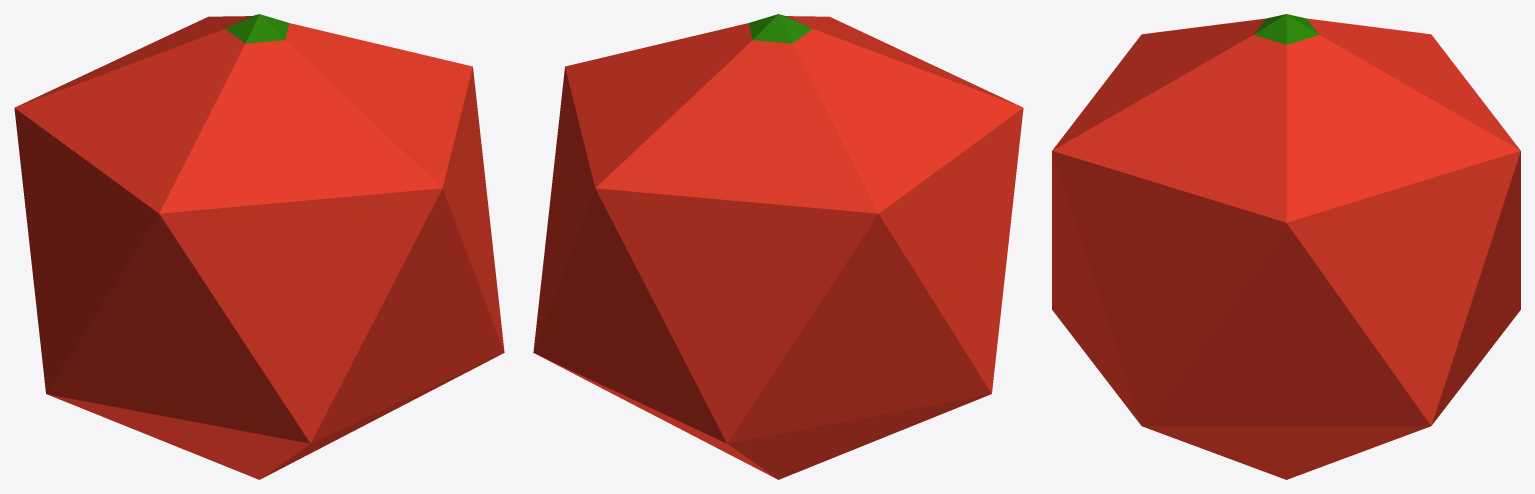
The model's file is tomate.fbx.
3 views of the same model, side by side, from view 1: azimuth 30°, elevation 25°; view 2: azimuth 150°, elevation 25°; view 3: azimuth 270°, elevation 25° (orthographic).
Parts seen in each view (by area): view 1: Tomate; view 2: Tomate; view 3: Tomate.
Boxes of the visible parts, x1,y1,x2,y2 form: Tomate: [14, 14, 504, 479]; Tomate: [533, 14, 1023, 479]; Tomate: [1052, 14, 1520, 479].
Bounding box in the file's own units: 5.56 × 5.8 × 5.29.
